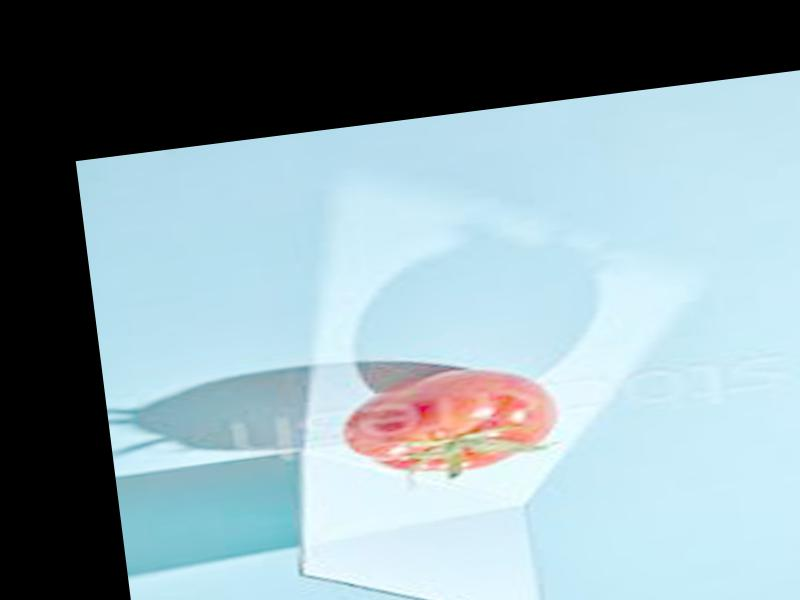Tomato: (336, 358, 561, 484)
